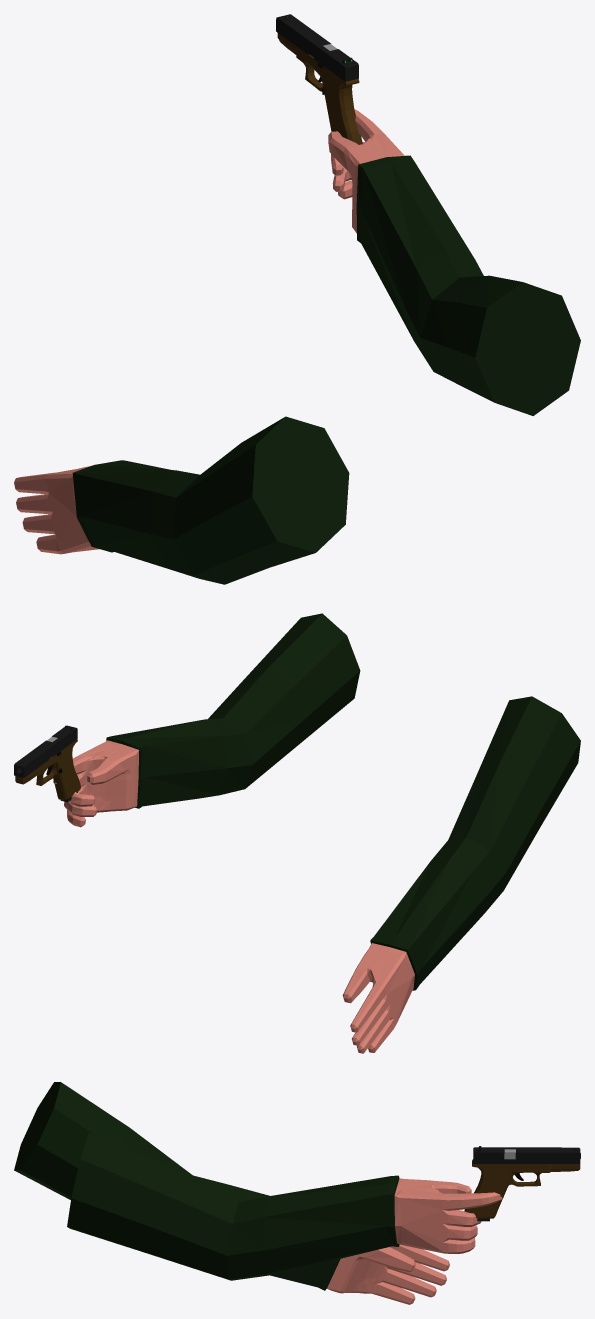
The model's file is vm_glock.glb.
3 views of the same model, one above another, from view 1: azimuth 30°, elevation 25°; view 2: azimuth 150°, elevation 25°; view 3: azimuth 270°, elevation 25° (orthographic). The views are drawn at different scales.
Visible parts, largest first — view 1: arms, gun; view 2: arms, gun; view 3: arms, gun.
Part boxes in pixels (bbox=[...]): arms: bbox=[14, 109, 580, 584]; gun: bbox=[276, 14, 362, 144]; arms: bbox=[53, 613, 580, 1053]; gun: bbox=[14, 725, 80, 800]; arms: bbox=[14, 1082, 503, 1304]; gun: bbox=[464, 1146, 580, 1218].
Size of the model in its own units: 1.2 by 1.08 by 1.92.
